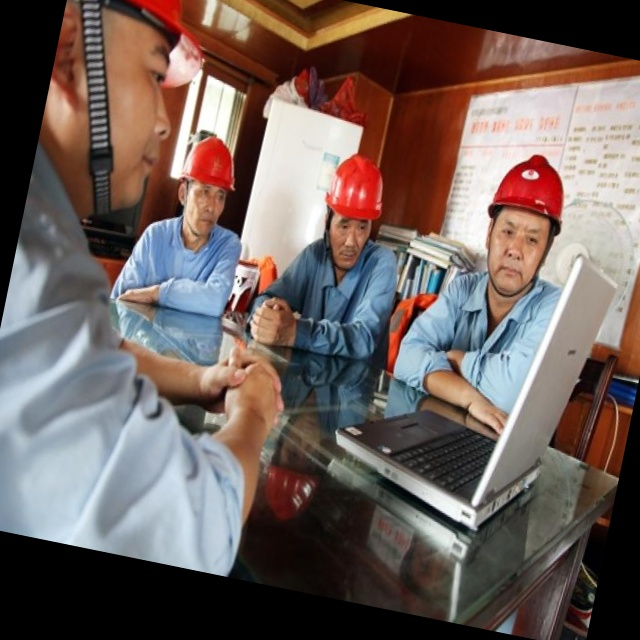Con_Casco: (312, 148, 394, 275), (166, 130, 245, 241)
